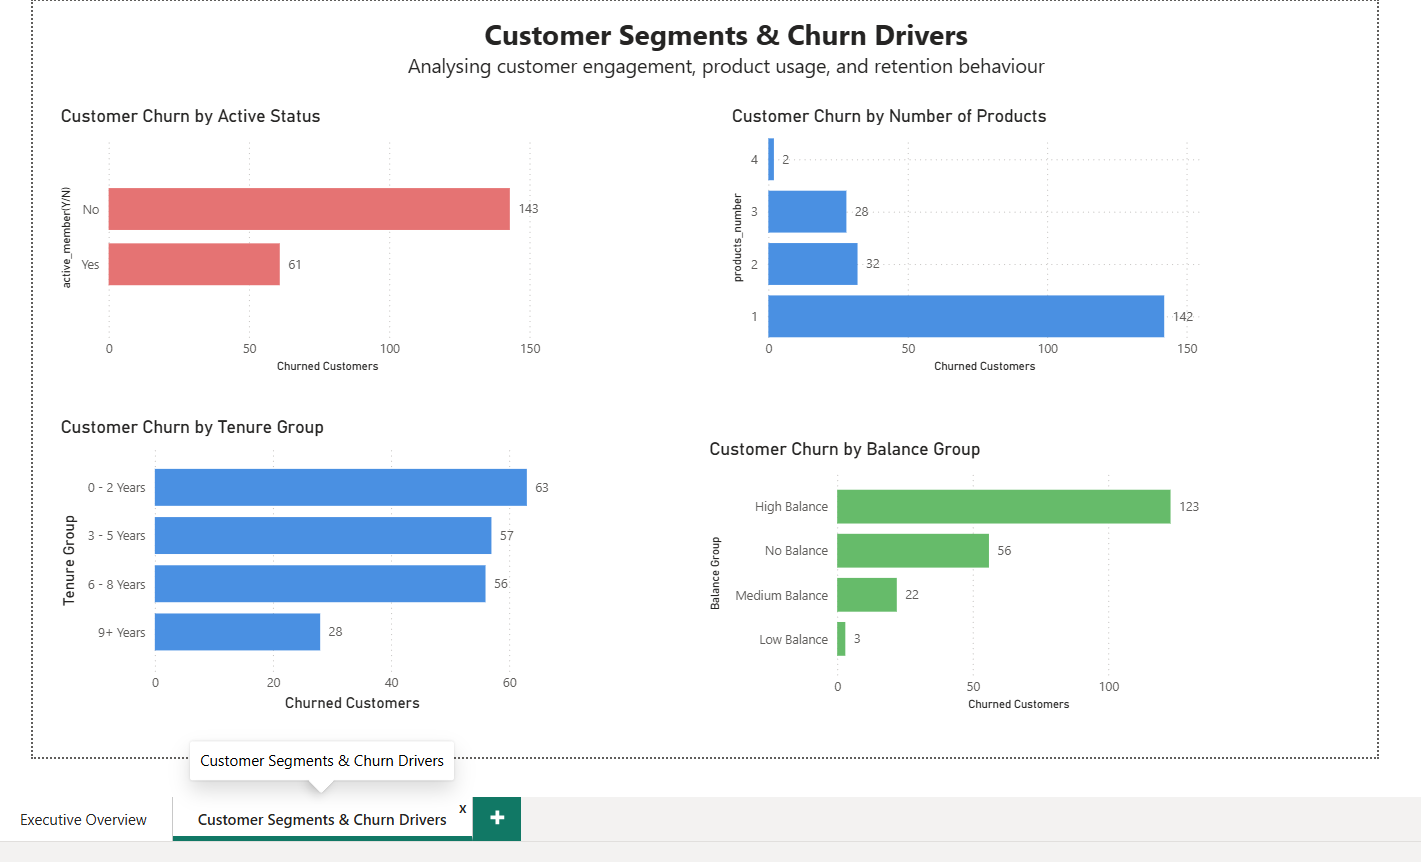

This screenshot's page, from the dashboard's own definition file:
{"tool":"powerbi","page":{"name":"Customer Segments & Churn Drivers","canvas":[1280,720],"ordinal":1},"visuals":[{"type":"clusteredBarChart","title":"Customer Churn by Active Status","fields":{"Category":["ChurnTable.active_member(Y/N)"],"Y":["ChurnTable.Churned Customers"]},"box":[22,99,483,260.5],"z":0},{"type":"clusteredBarChart","title":"Customer Churn by Number of Products","fields":{"Category":["ChurnTable.products_number"],"Y":["ChurnTable.Churned Customers"]},"box":[660.3,99,467.1,260.5],"z":1000},{"type":"textbox","box":[276.4,8.6,767.9,79.5],"z":1001},{"type":"clusteredBarChart","title":"Customer Churn by Tenure Group","fields":{"Y":["ChurnTable.Churned Customers"],"Category":["ChurnTable.Tenure Group"]},"box":[22,395,483,286.1],"z":1002},{"type":"clusteredBarChart","title":"Customer Churn by Balance Group","fields":{"Y":["ChurnTable.Churned Customers"],"Category":["ChurnTable.Balance Group"]},"box":[639.5,417,487.9,264.1],"z":1003}]}

Visuals, with their boxes on the page's 1280x720 design canvas (x1, y1, x2, y2). These are canvas units, not pixel positions in the 1421x862 screenshot, which may show the page scaled, cropped or inside an application window:
"Customer Churn by Active Status" clusteredBarChart: crop(22, 99, 505, 360)
"Customer Churn by Number of Products" clusteredBarChart: crop(660, 99, 1127, 360)
textbox: crop(276, 9, 1044, 88)
"Customer Churn by Tenure Group" clusteredBarChart: crop(22, 395, 505, 681)
"Customer Churn by Balance Group" clusteredBarChart: crop(640, 417, 1127, 681)
